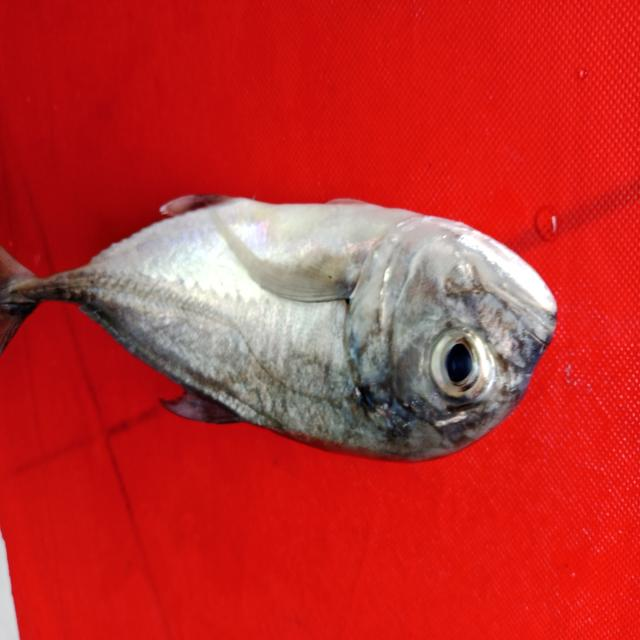ikan: (6, 162, 567, 474)
